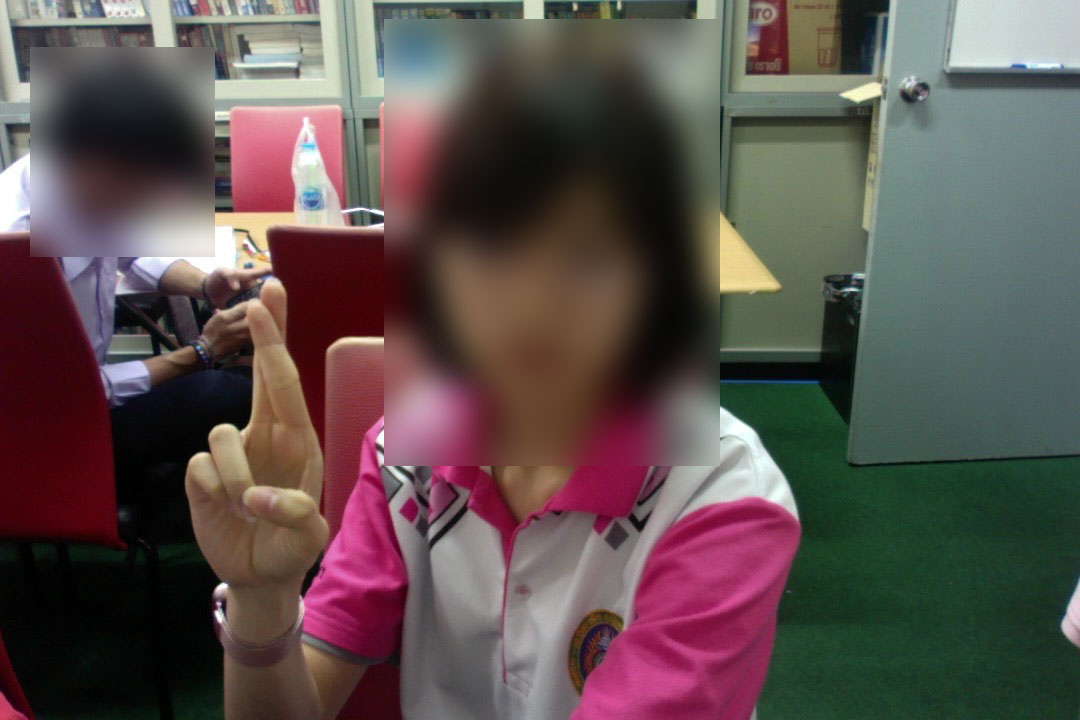rao: (163, 279, 346, 590)
